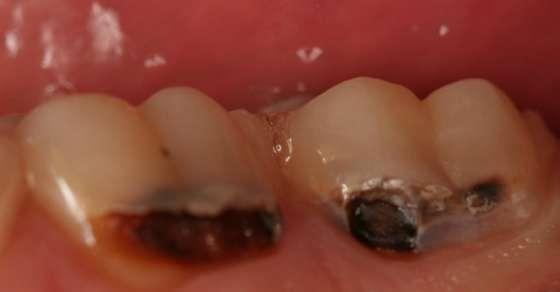cavity: (16, 86, 286, 281), (284, 77, 556, 261)
